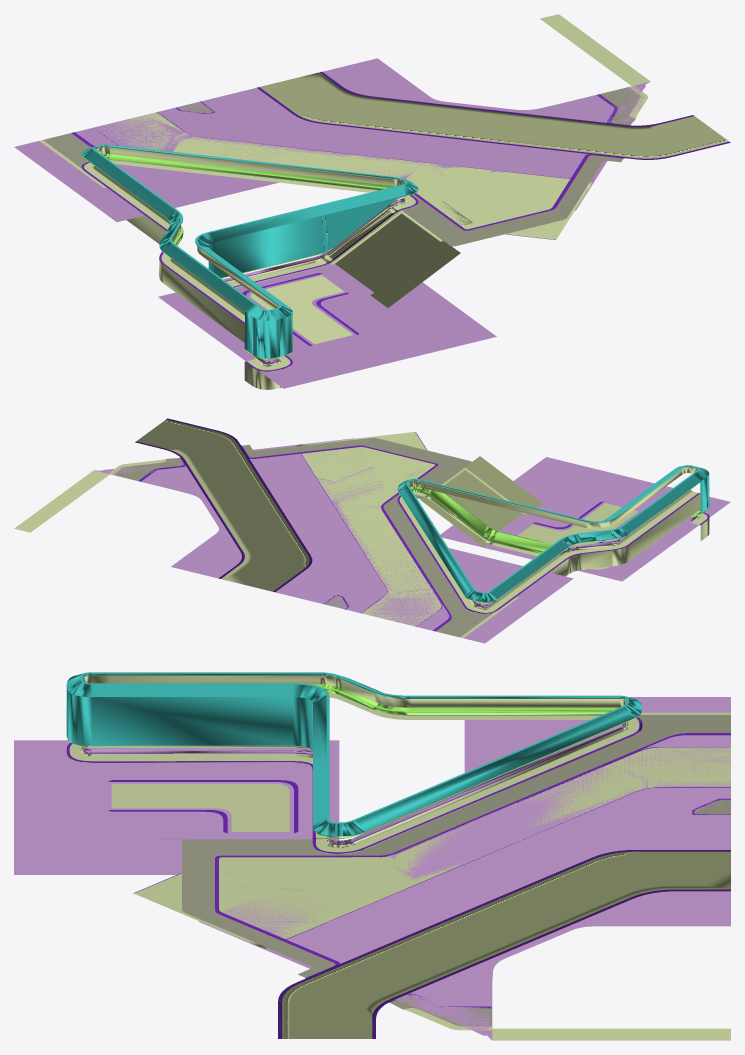
The model's file is promenade_floor_e_lod1.glb.
The picture shows the model from 3 angles, top to bottom: view 1: azimuth 30°, elevation 25°; view 2: azimuth 150°, elevation 25°; view 3: azimuth 270°, elevation 25°; orthographic projection. The views are drawn at different scales.
Size of the model in its own units: 31.18 by 3.99 by 27.01.
